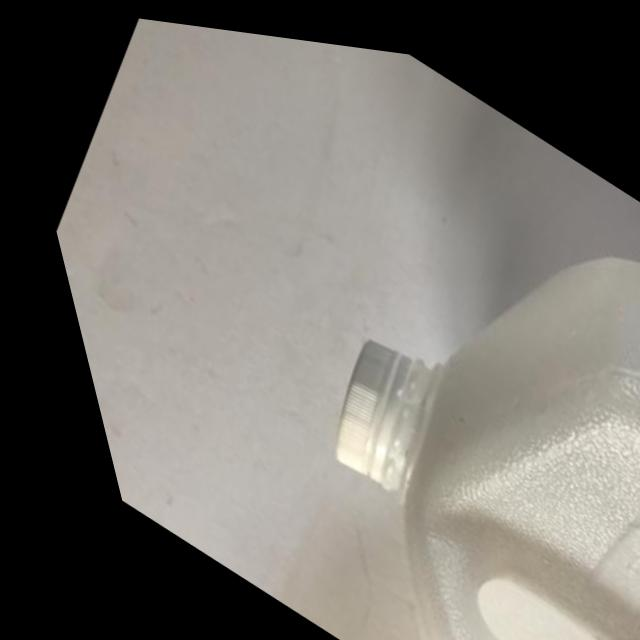plastic: (88, 14, 640, 640)
